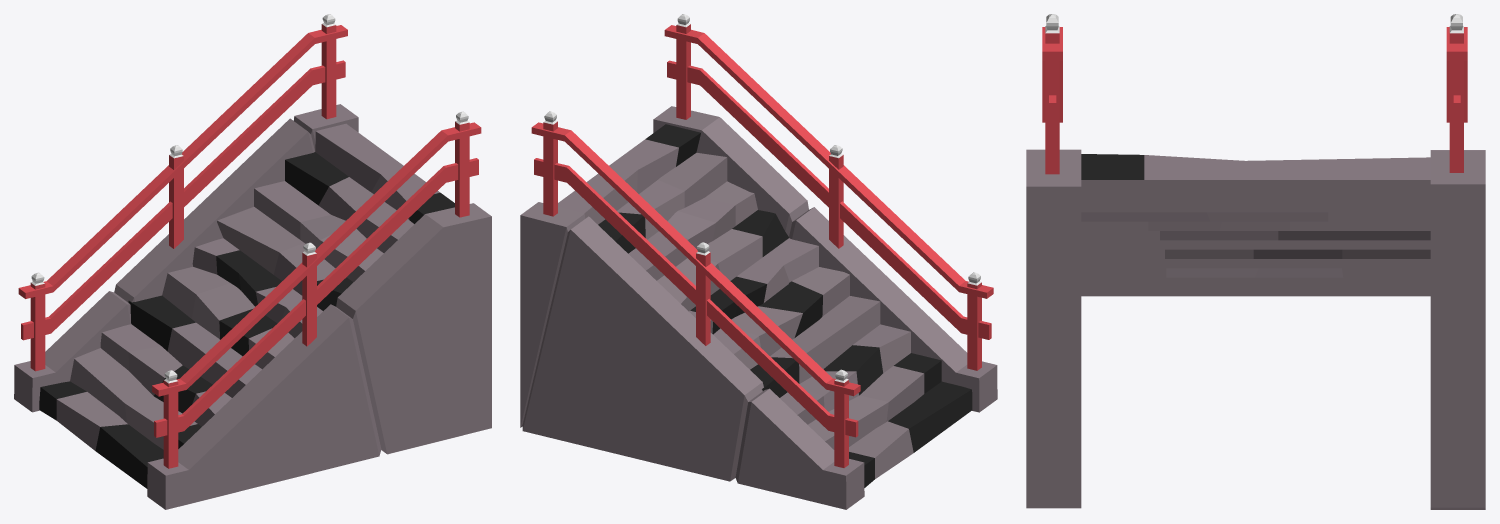
File: stoneStairsShort.fbx
3 renders of one model, left to right at view 1: azimuth 30°, elevation 25°; view 2: azimuth 150°, elevation 25°; view 3: azimuth 270°, elevation 25°, orthographic. The views are drawn at different scales.
Visible parts, largest first — view 1: Cube.034; view 2: Cube.034; view 3: Cube.034.
Part boxes in pixels (x1=…): Cube.034: x1=14, y1=14, x2=491, y2=509; Cube.034: x1=520, y1=14, x2=997, y2=509; Cube.034: x1=1026, y1=14, x2=1485, y2=509.
Size of the model in its own units: 231 by 214 by 185.
